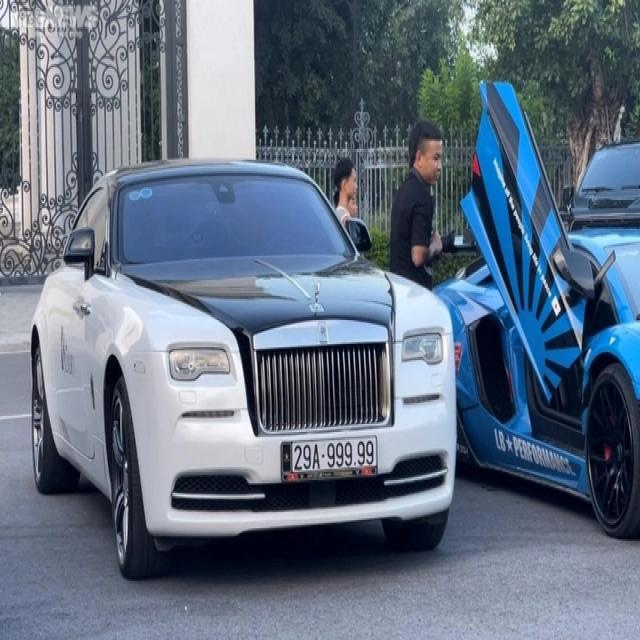car: (33, 151, 459, 578)
plate: (278, 429, 385, 484)
